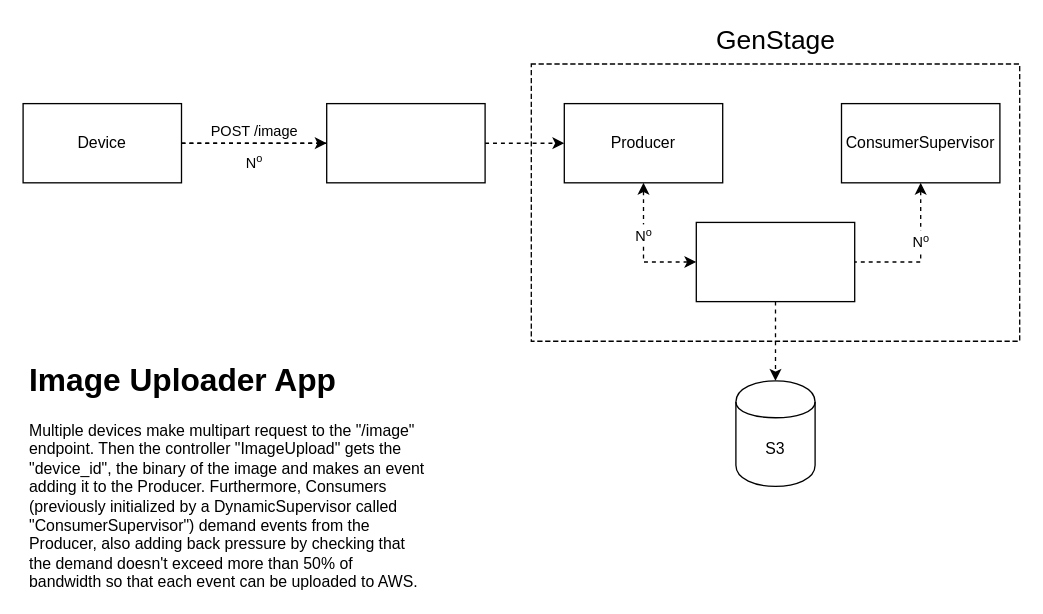
Some shapes in this 1043 by 614 pixel diagram are drawn without their labels. Here are the shapes that lost their labels. From the top down, the centre of each, then its label:
At point 405,142: "ImageUpload".
At point 775,261: "Consumer".
